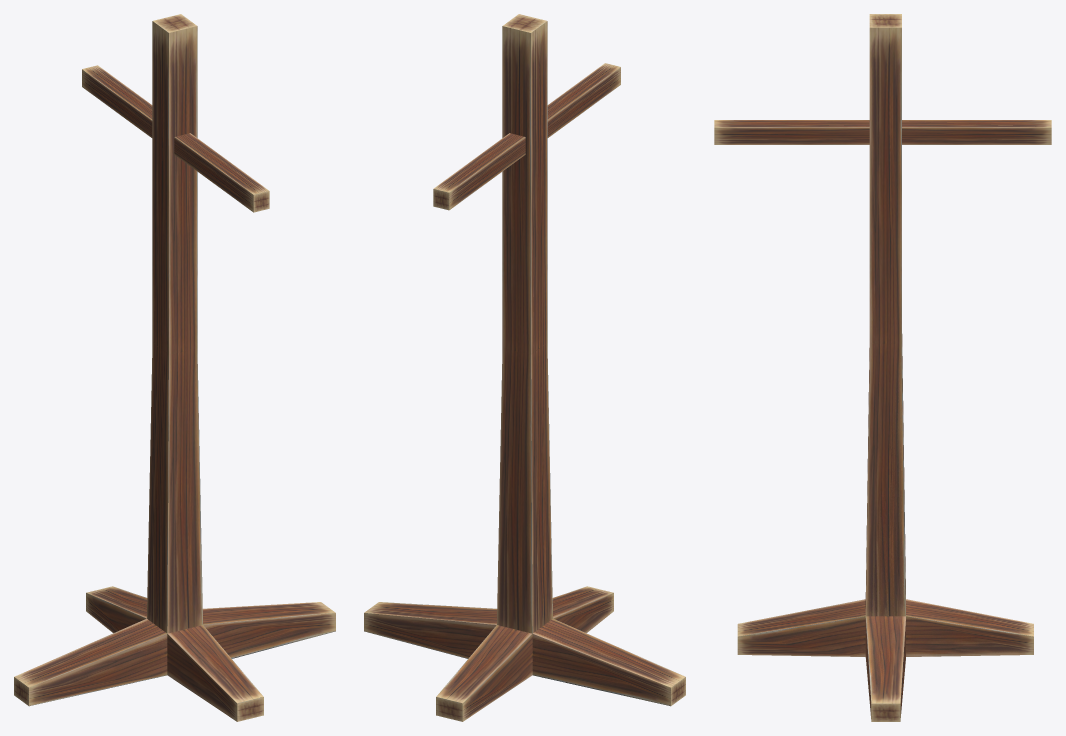
Rendered from armorstand.obj.
3 views of the same model, side by side, from view 1: azimuth 30°, elevation 25°; view 2: azimuth 150°, elevation 25°; view 3: azimuth 270°, elevation 25° (orthographic).
Visible parts, largest first — view 1: armorstand; view 2: armorstand; view 3: armorstand.
Part boxes in pixels (box(x1,y1,x2,y2)): armorstand: box(14, 14, 335, 721); armorstand: box(364, 14, 685, 721); armorstand: box(714, 14, 1051, 721).
Bounding box in the file's own units: 0.8958 × 1.79 × 0.8686.
Materials: 1 (1 with a texture image).
